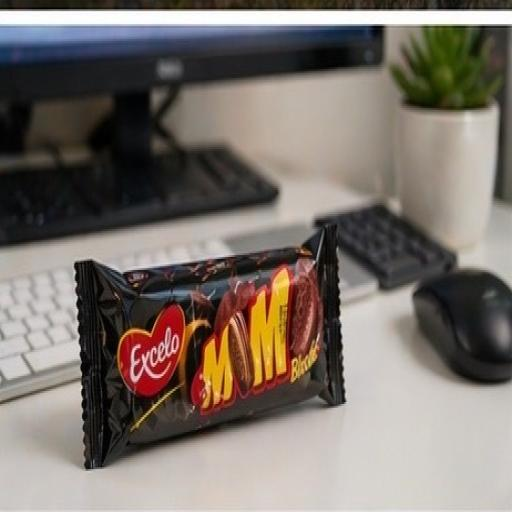MOMO: (62, 220, 351, 447)
